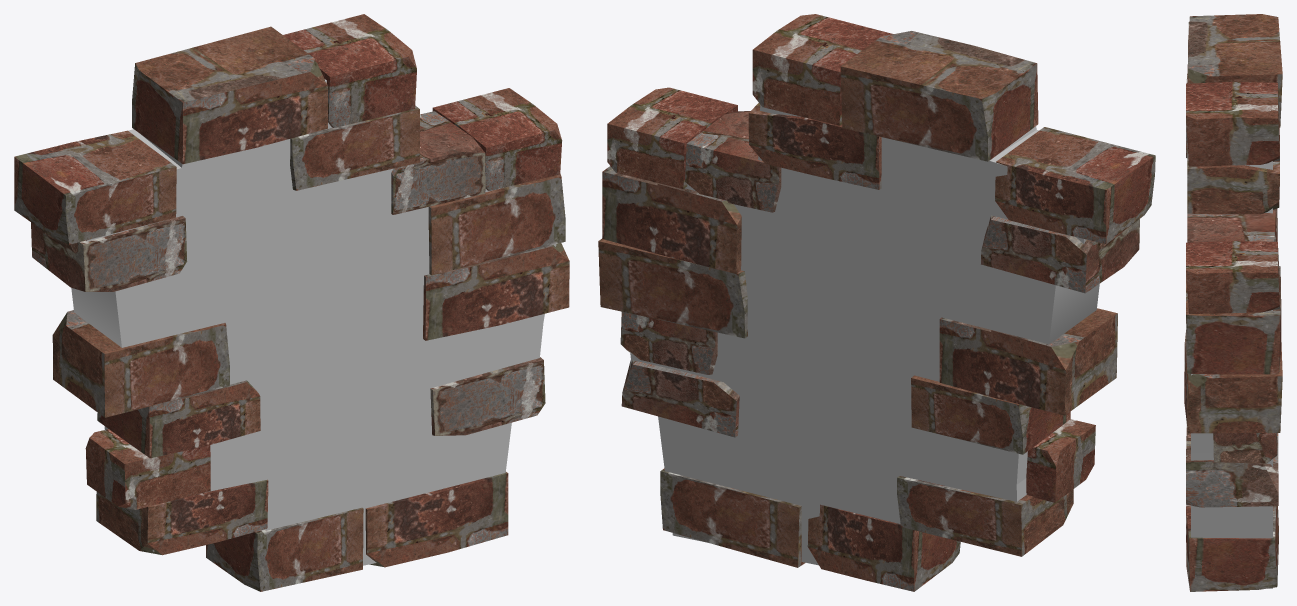
Rendered from SM_Wall_Ruined_32.fbx.
3 renders of one model, left to right at view 1: azimuth 30°, elevation 25°; view 2: azimuth 150°, elevation 25°; view 3: azimuth 270°, elevation 25°, orthographic. The views are drawn at different scales.
Visible parts, largest first — view 1: SM_Wall_Ruined_32_LOD0; view 2: SM_Wall_Ruined_32_LOD0; view 3: SM_Wall_Ruined_32_LOD0.
Part boxes in pixels (x1,y1,x2,y2): SM_Wall_Ruined_32_LOD0: (14,14,569,591); SM_Wall_Ruined_32_LOD0: (598,14,1155,591); SM_Wall_Ruined_32_LOD0: (1184,14,1282,591).
Size of what is drawn, in the model's own units: 305 by 297 by 60.04.
